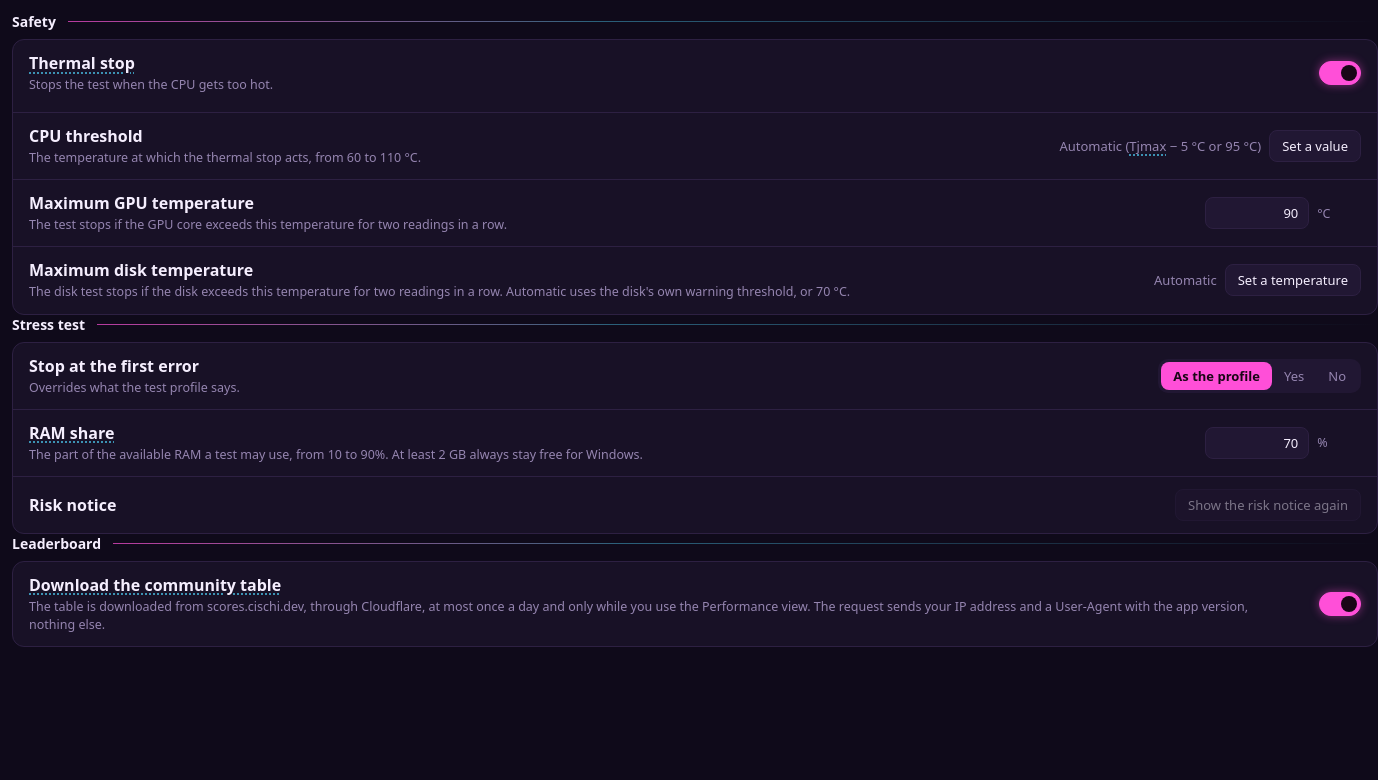
Test case: manual_threshold_starts_at_95_and_has_a_label
Step 1. Click the button "Set a value" → x=1315, y=146, box left=1269, top=130, right=1361, bottom=162
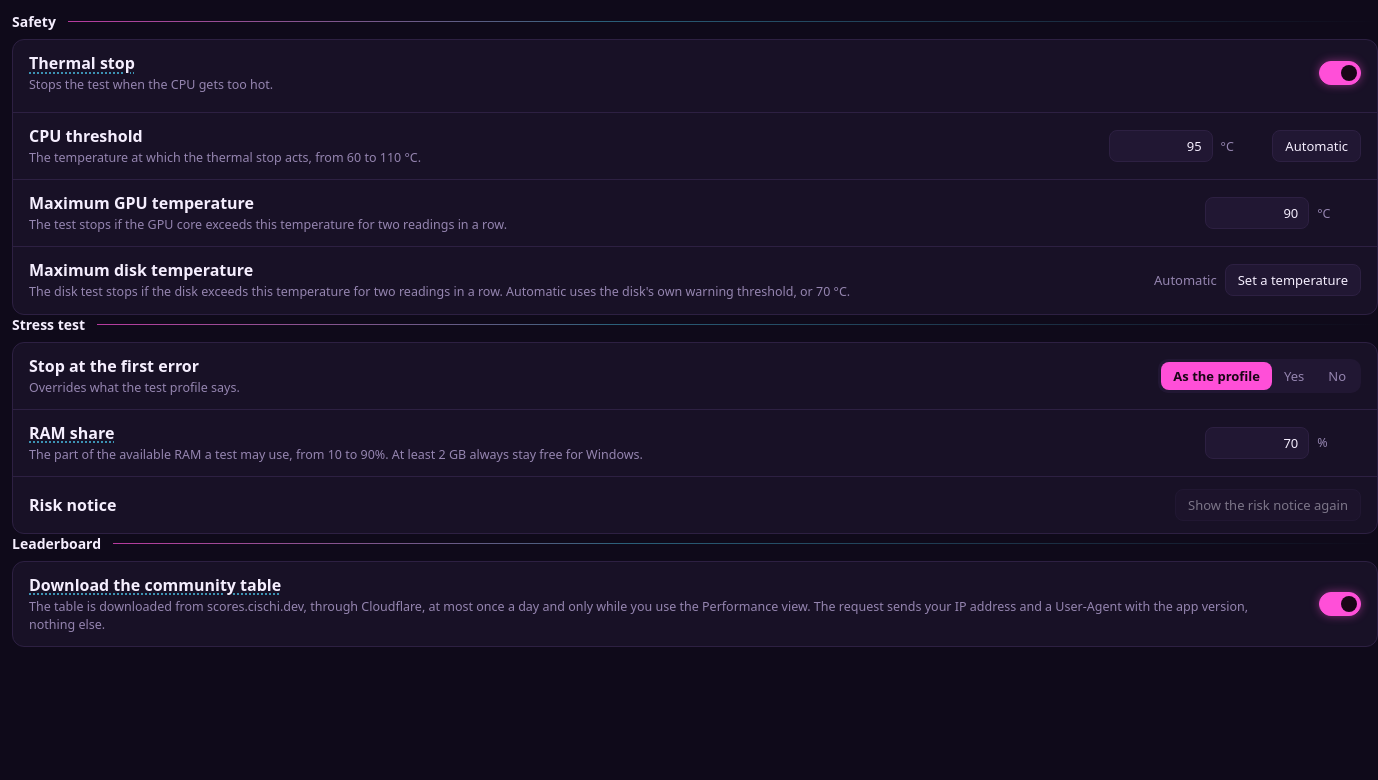
expect the field labelled "CPU threshold" is shown: met, box left=1109, top=130, right=1213, bottom=162
